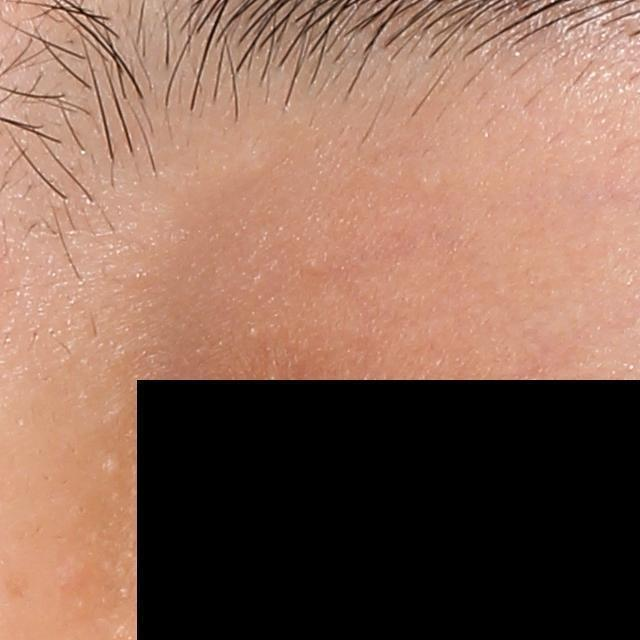comedo: (101, 455, 123, 477)
